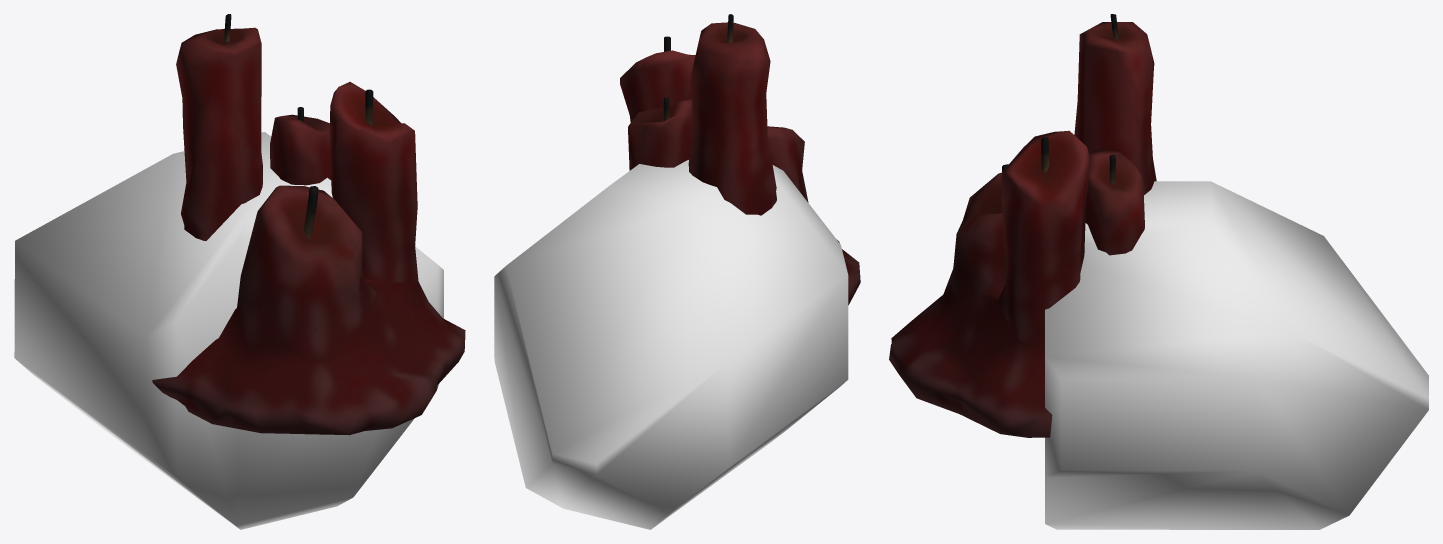
The model's file is SM_Candles_A.fbx.
The picture shows the model from 3 angles, left to right: view 1: azimuth 30°, elevation 25°; view 2: azimuth 150°, elevation 25°; view 3: azimuth 270°, elevation 25°; orthographic projection. The views are drawn at different scales.
Parts seen in each view (by area): view 1: SM_Candles_A, SM_Candles_A_ConvexHulls; view 2: SM_Candles_A_ConvexHulls, SM_Candles_A; view 3: SM_Candles_A_ConvexHulls, SM_Candles_A.
Part boxes in pixels (box(x1,y1,x2,y2)): SM_Candles_A: box(152, 14, 465, 435); SM_Candles_A_ConvexHulls: box(14, 132, 443, 529); SM_Candles_A_ConvexHulls: box(494, 160, 848, 529); SM_Candles_A: box(620, 14, 860, 305); SM_Candles_A_ConvexHulls: box(1045, 181, 1428, 529); SM_Candles_A: box(889, 14, 1156, 437).
Size of the model in its own units: 0.2019 by 0.3203 by 0.328.
